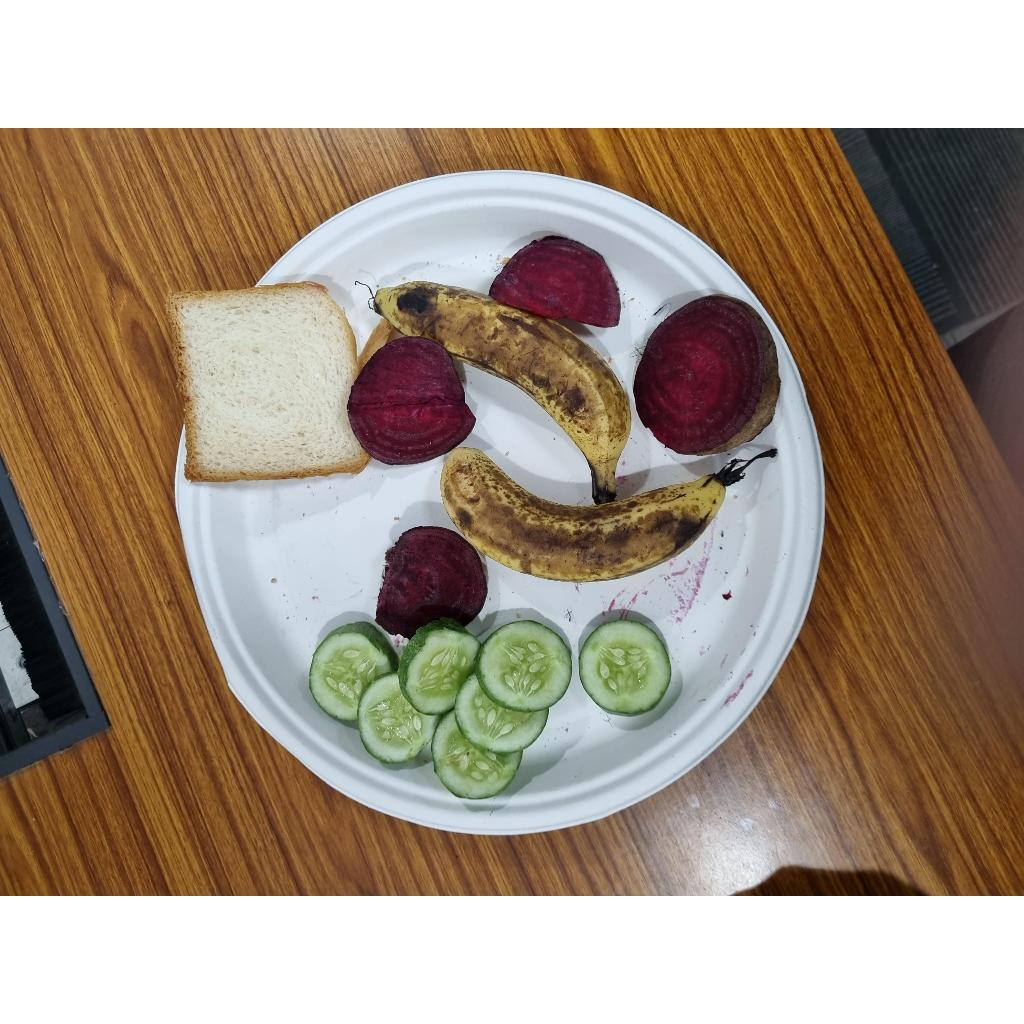banana: (375, 281, 631, 503), (441, 447, 727, 582)
cucumber: (476, 620, 572, 711), (309, 622, 397, 721), (432, 710, 522, 799), (398, 624, 480, 715), (358, 673, 440, 764), (454, 674, 548, 753), (633, 672, 642, 681)
